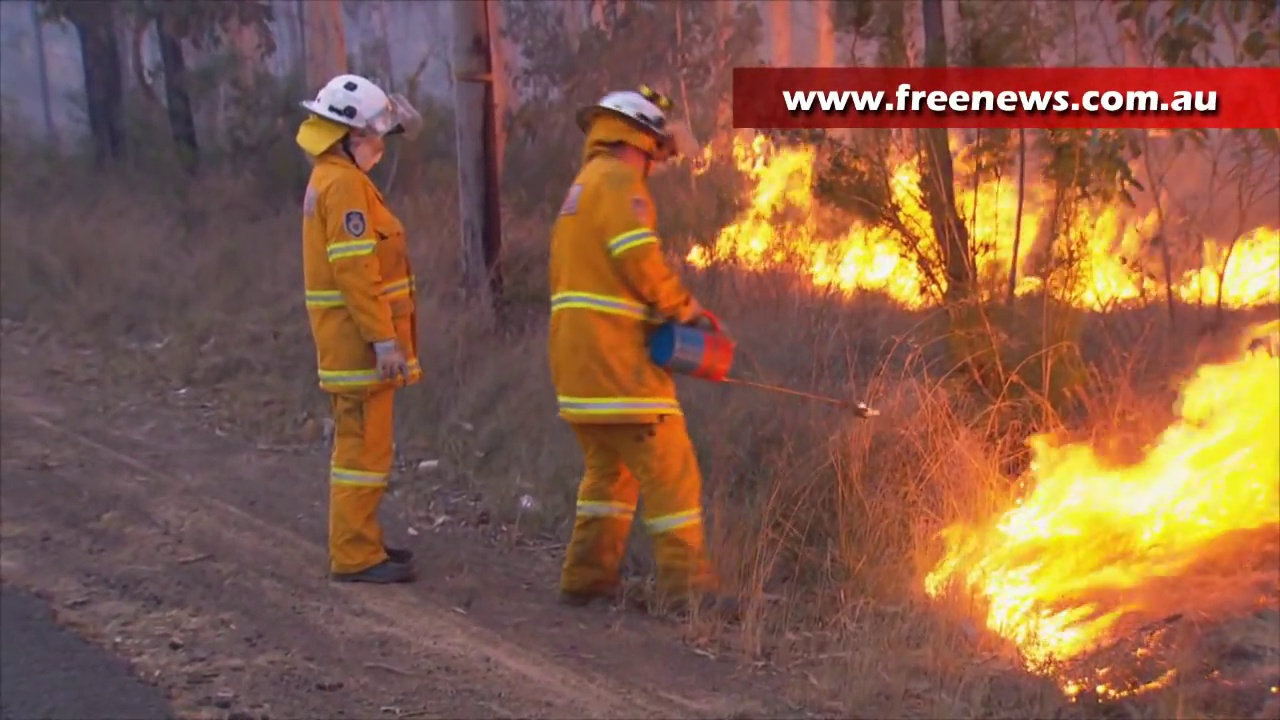fire: (951, 334, 1280, 644), (821, 146, 1134, 303), (700, 128, 819, 264), (1186, 224, 1280, 312)
